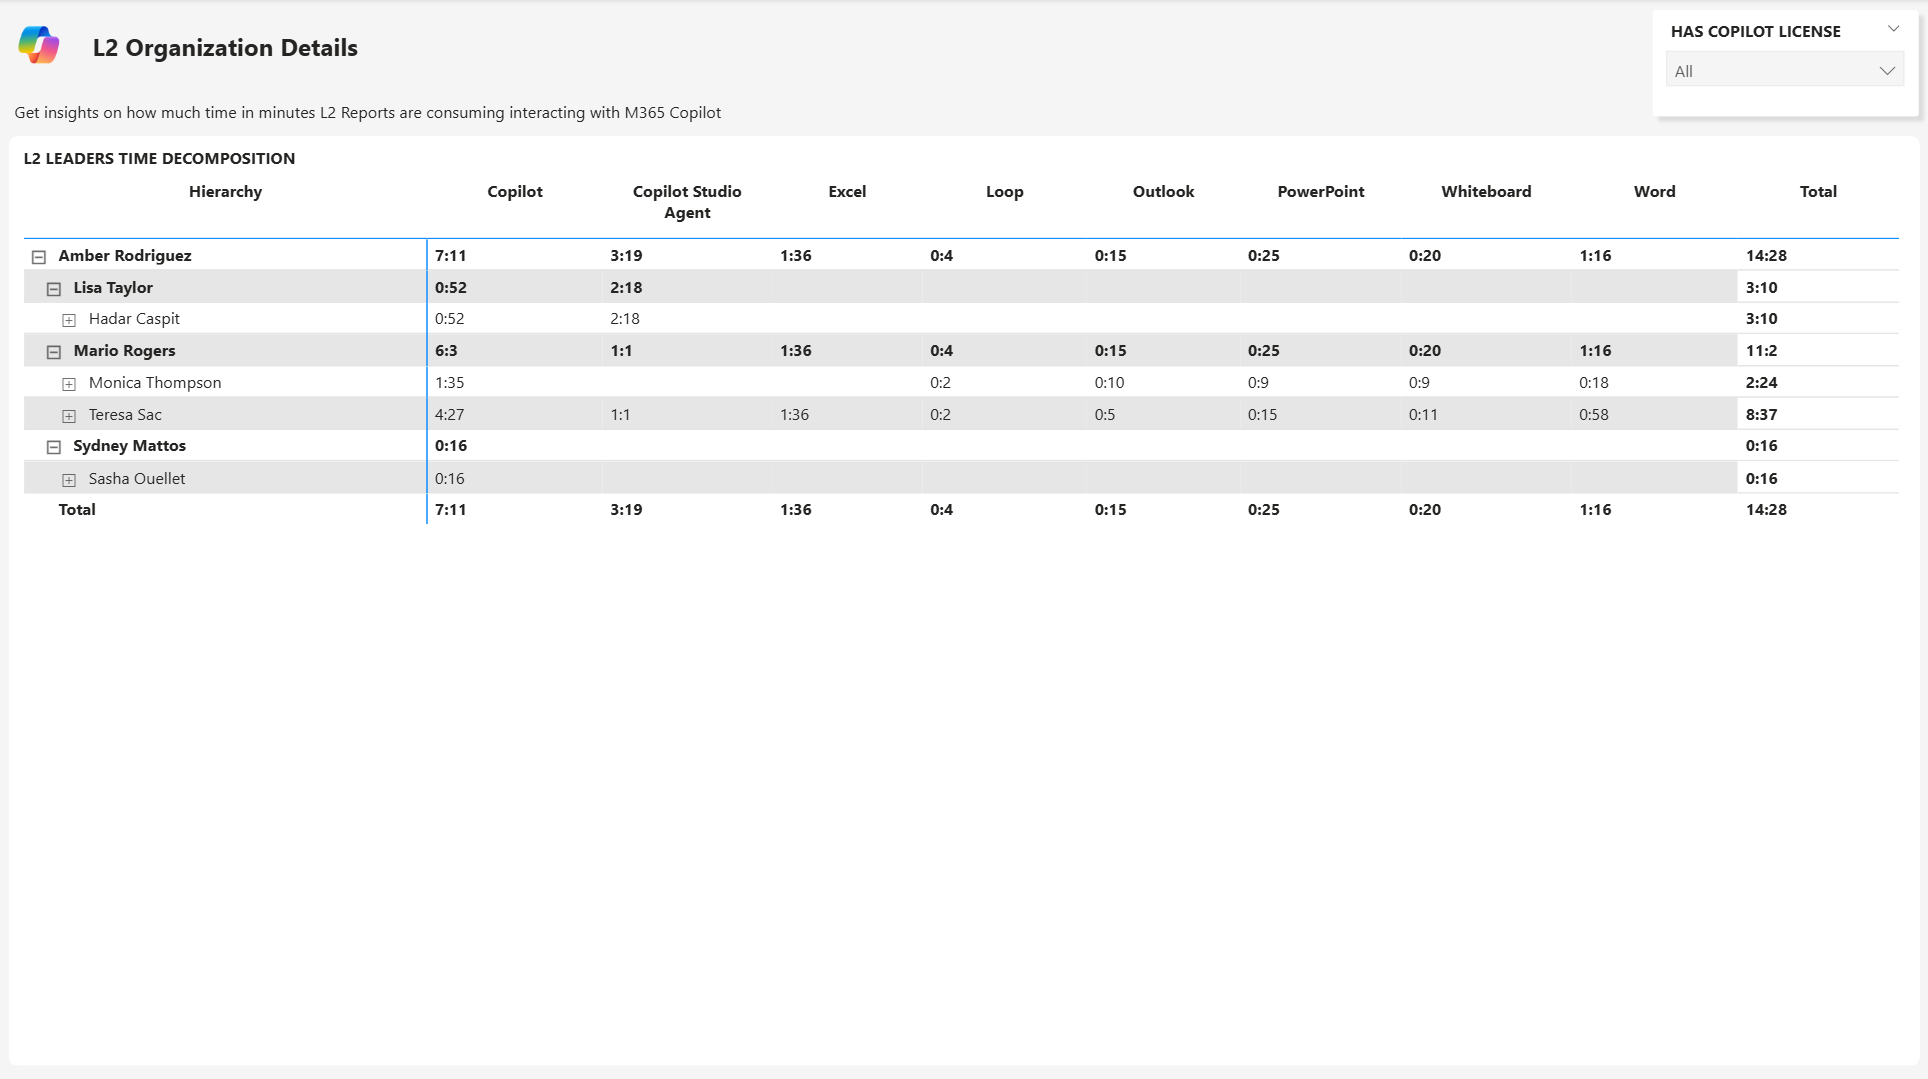

The page's visual inventory and layout, read from the dashboard file:
{"tool":"powerbi","page":{"name":"Org Details","canvas":[1280,720],"ordinal":4},"visuals":[{"type":"shape","box":[1089.9,0.9,189.9,84.2],"z":0},{"type":"shape","box":[10.7,91.3,1262.7,614.3],"z":1000},{"type":"image","box":[10.8,10.8,39.5,39.5],"z":2000},{"type":"textbox","box":[61.6,21.2,238.7,22.1],"z":3000},{"type":"textbox","box":[9.9,59.1,680.6,32.2],"z":4000},{"type":"actionButton","box":[60,593,20.7,20.7],"z":5000},{"type":"pivotTable","title":"L2 LEADERS TIME DECOMPOSITION","fields":{"Rows":["Users.L1 Name","Users.L2 Name","Users.L3 Name","Users.EMPLOYEE"],"Columns":["Copilot.APPLICATION"],"Values":["Copilot.Total Time (h:mm)"]},"box":[16.1,97.6,1249.3,598.2],"z":6000},{"type":"slicer","fields":{"Values":["Users.HasCopilotLicense"]},"box":[1096.1,9,177.3,66.3],"z":7000}]}

Visuals, with their boxes in screenshot pixels (x1, y1, x2, y2), scaled from the page's 1280x720 canvas onto the 1928x1079 screenshot:
shape: left=1642, top=1, right=1927, bottom=128
shape: left=16, top=137, right=1918, bottom=1057
image: left=16, top=16, right=76, bottom=75
textbox: left=93, top=32, right=452, bottom=65
textbox: left=15, top=89, right=1040, bottom=137
actionButton: left=90, top=889, right=122, bottom=920
"L2 LEADERS TIME DECOMPOSITION" pivotTable: left=24, top=146, right=1906, bottom=1043
slicer - Users.HasCopilotLicense: left=1651, top=13, right=1918, bottom=113
